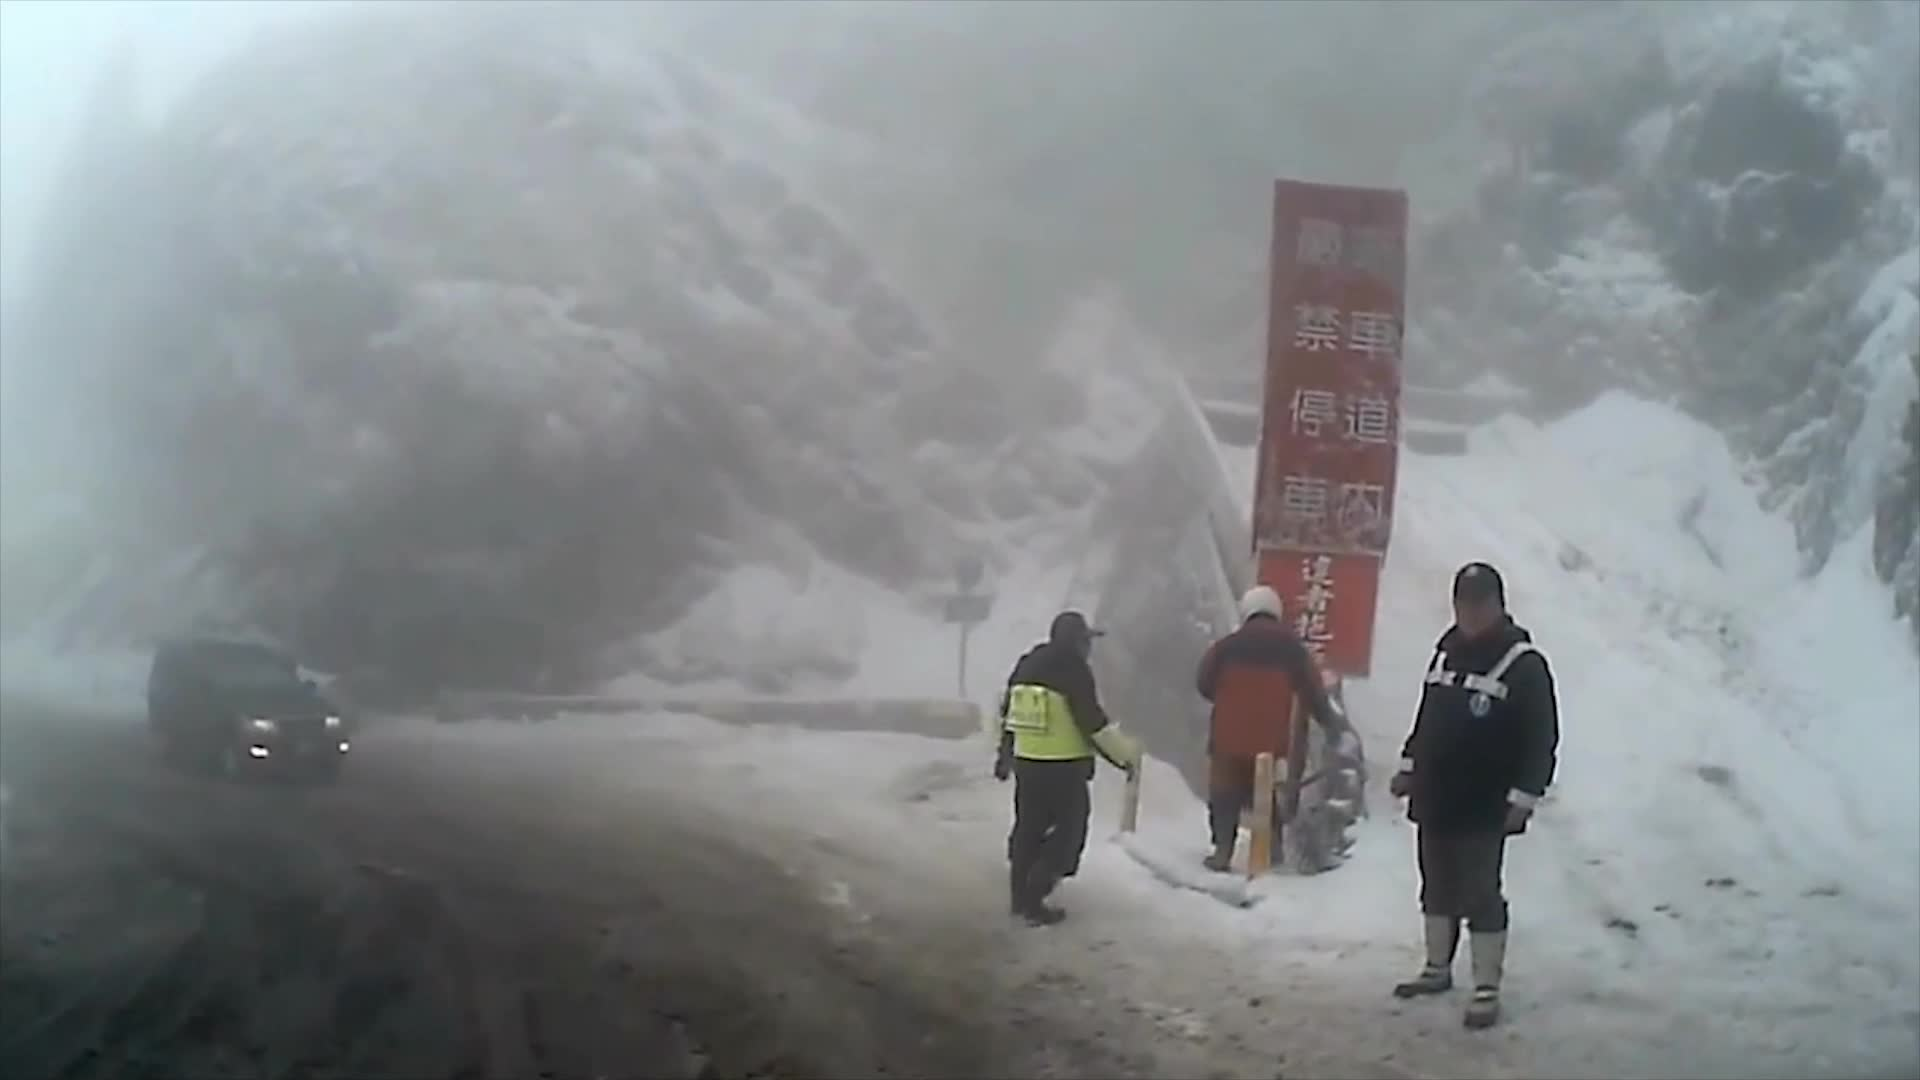pedestrian: (1393, 560, 1569, 1029), (1197, 587, 1349, 872), (986, 618, 1115, 929)
vehicle: (142, 637, 348, 788)
